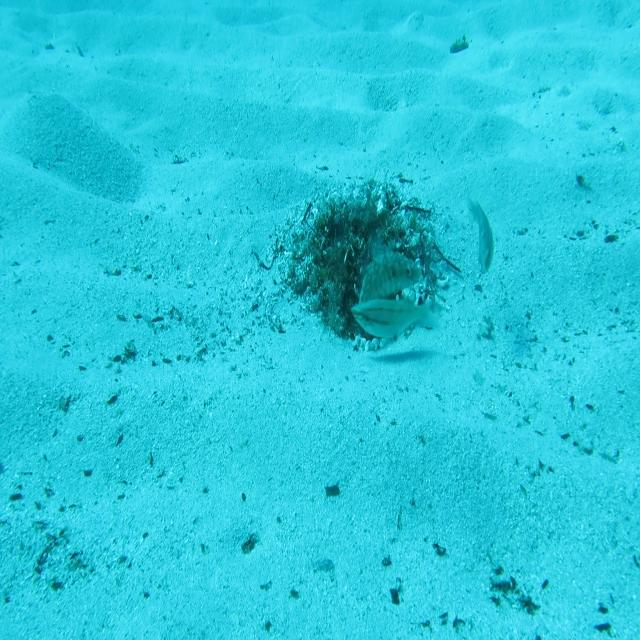LF: (359, 242, 423, 306)
core_nest: (349, 206, 395, 246)
female: (349, 293, 439, 341), (466, 191, 495, 278)
nest: (271, 177, 455, 355)
vegetation: (447, 33, 471, 54), (240, 531, 259, 556), (323, 481, 341, 501)
